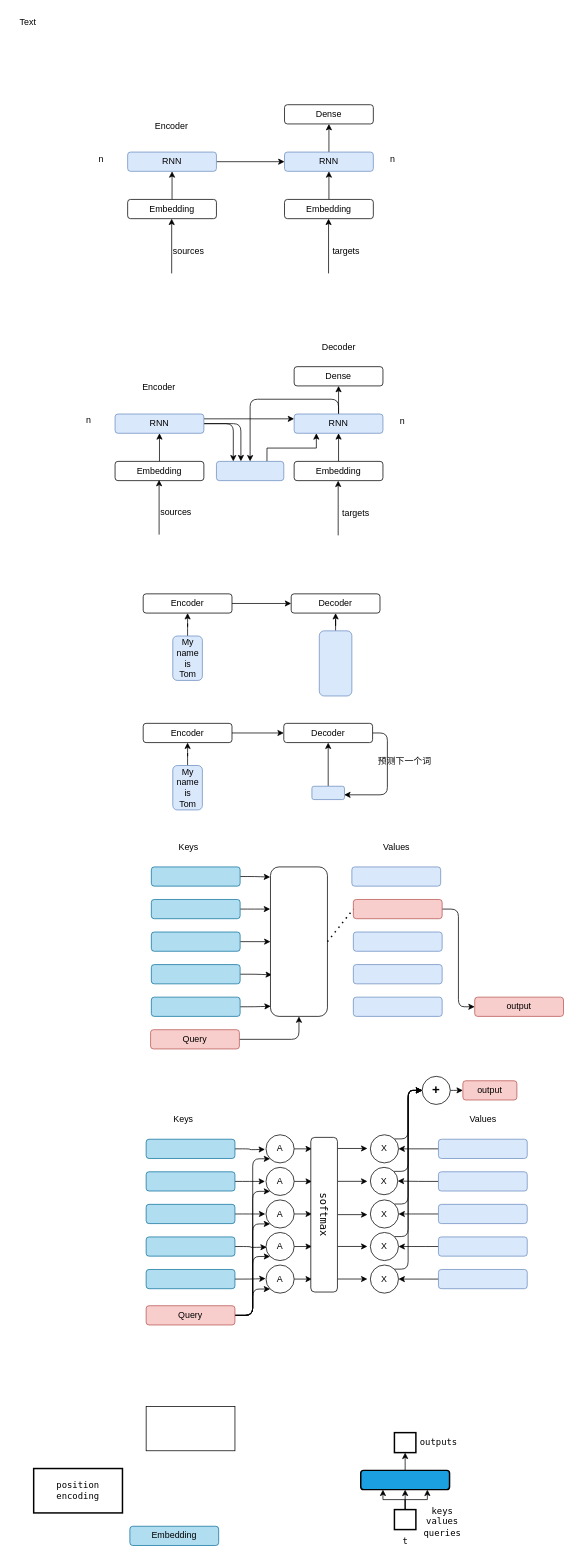
This 576x1561 diagram has some shape labels left out. Here are the shapes that lost their labels. From the top down, the centre of each, then its label:
the point at 250,471: Attention
the point at 335,663: <bos> 我的 名字 是 汤姆 <eos>
the point at 327,793: <bos>
the point at 298,941: attention pooling
the point at 405,1479: self-attention
